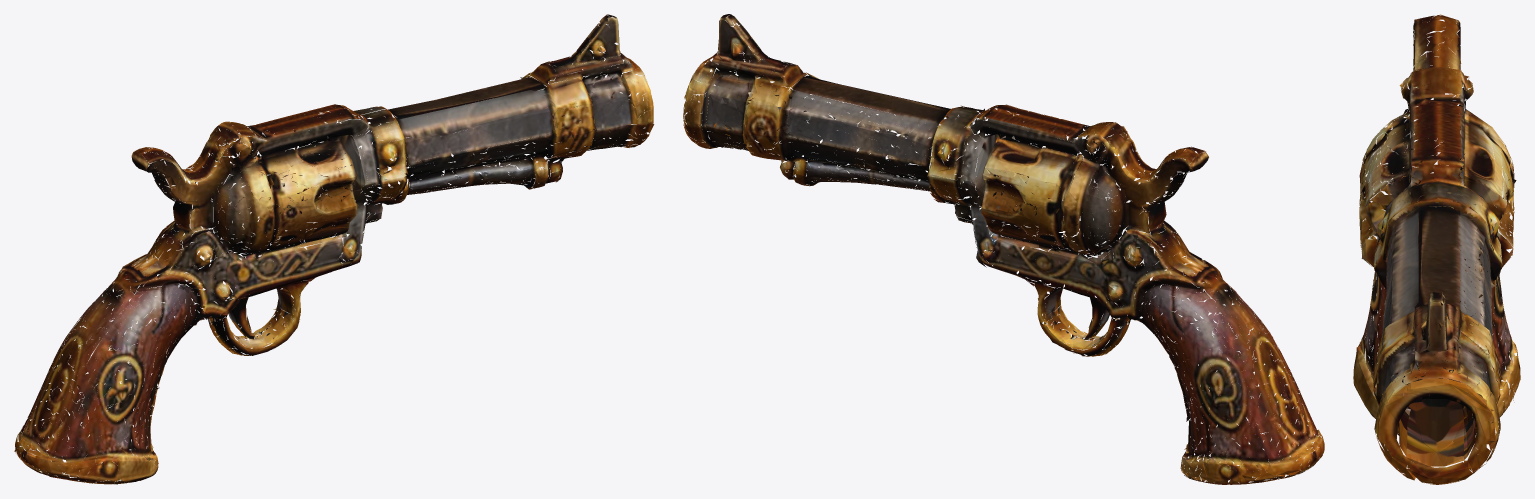
File: revolver-trial.glb
3 renders of one model, left to right at view 1: azimuth 30°, elevation 25°; view 2: azimuth 150°, elevation 25°; view 3: azimuth 270°, elevation 25°, orthographic. The views are drawn at different scales.
Visible parts, largest first — view 1: geometry_0; view 2: geometry_0; view 3: geometry_0.
Boxes of the visible parts, left/top/right/bottom form: geometry_0: left=14, top=14, right=654, bottom=484; geometry_0: left=683, top=14, right=1324, bottom=484; geometry_0: left=1353, top=14, right=1520, bottom=484.
Size of the model in its own units: 0.28 by 0.1477 by 0.0486.
2 materials, 2 textured.
